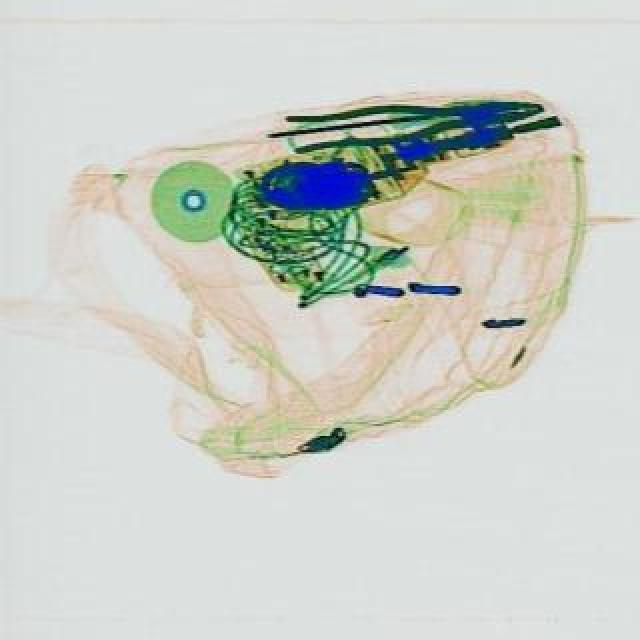wrench: (282, 90, 544, 158)
